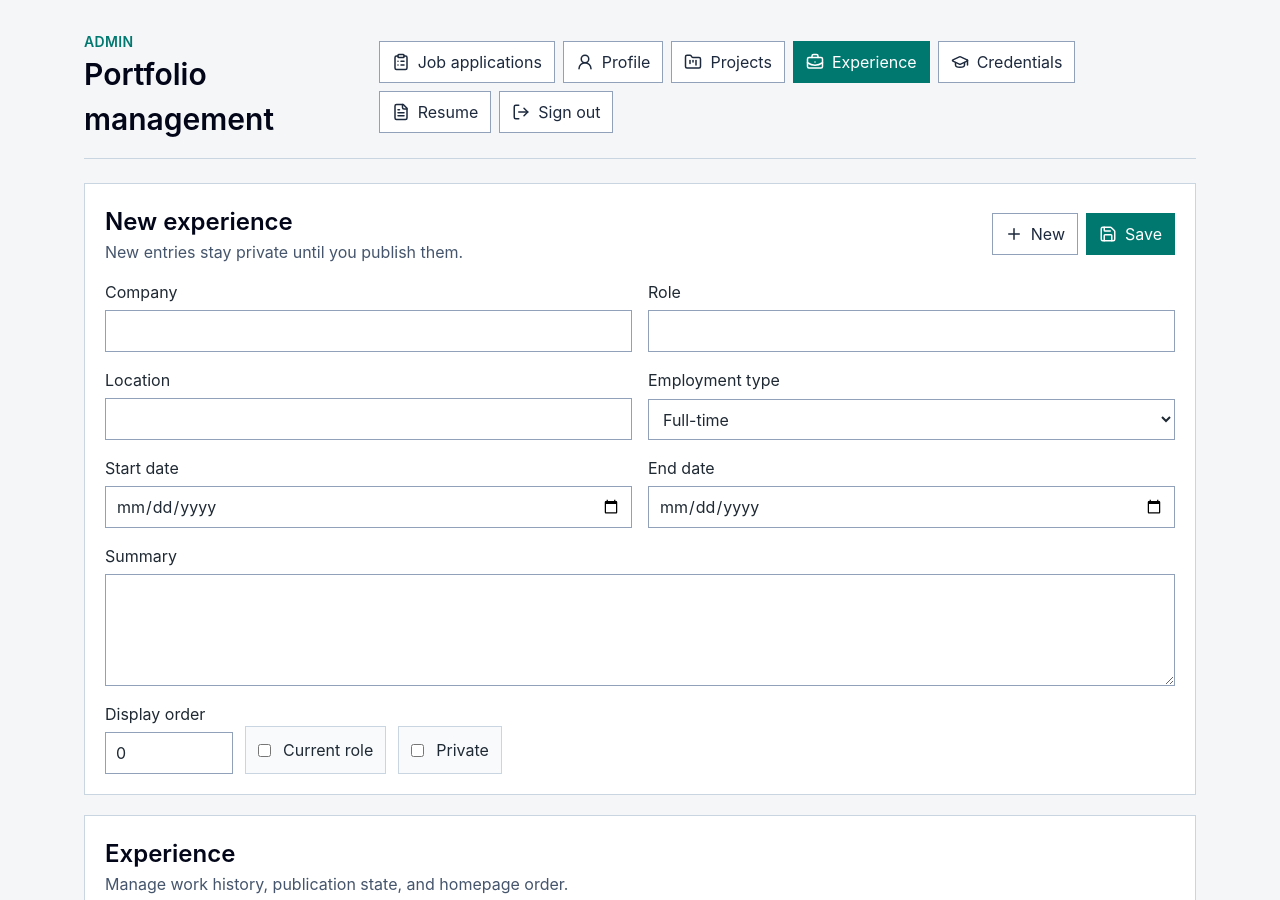
Test: experience admin › validates date rules, current-role exclusivity, and display order
Type "2026-01-01" into the date field labelled "End date" at (912, 507), box left=648, top=486, right=1175, bottom=528
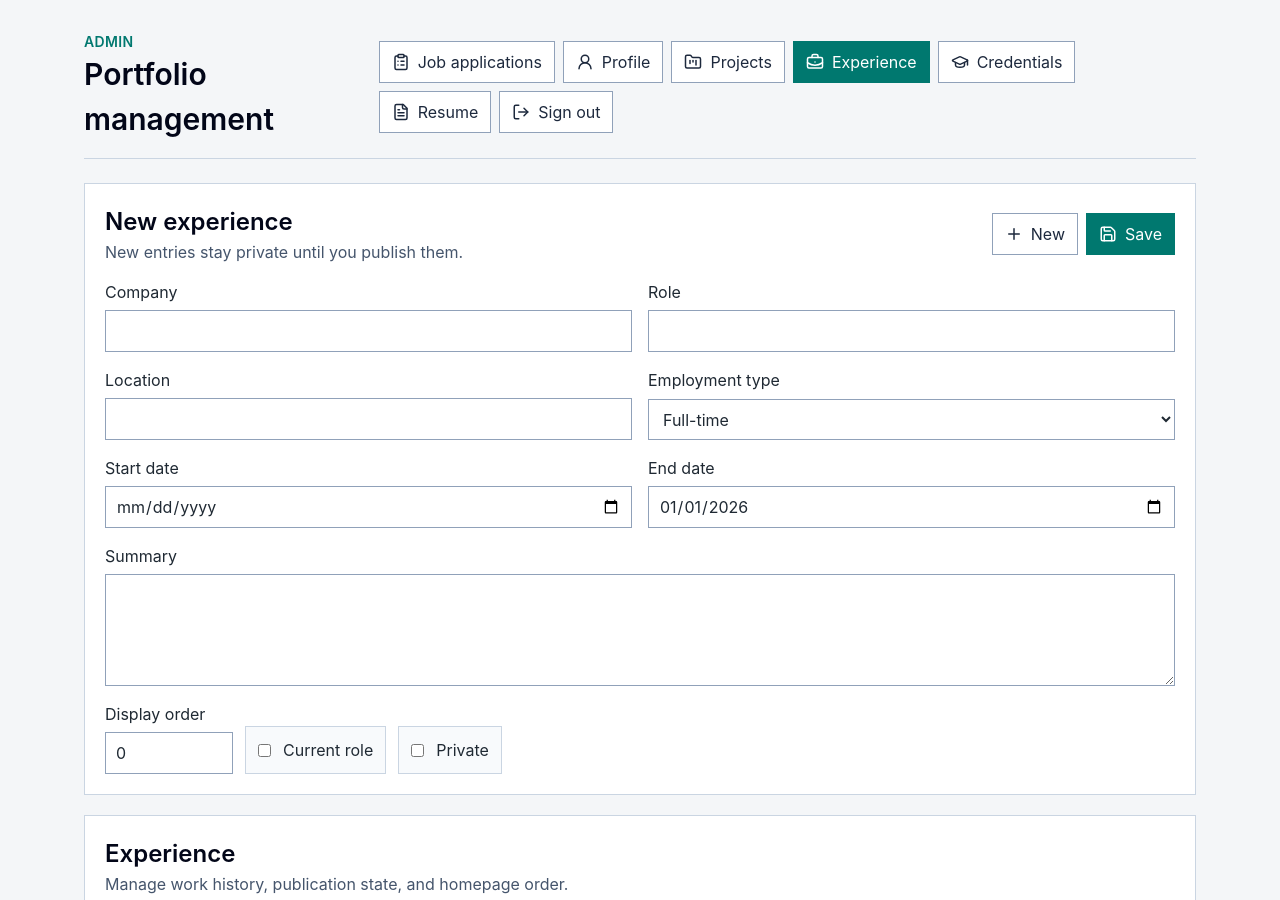
Click the checkbox labelled "Current role" at (264, 750), box left=258, top=744, right=271, bottom=756
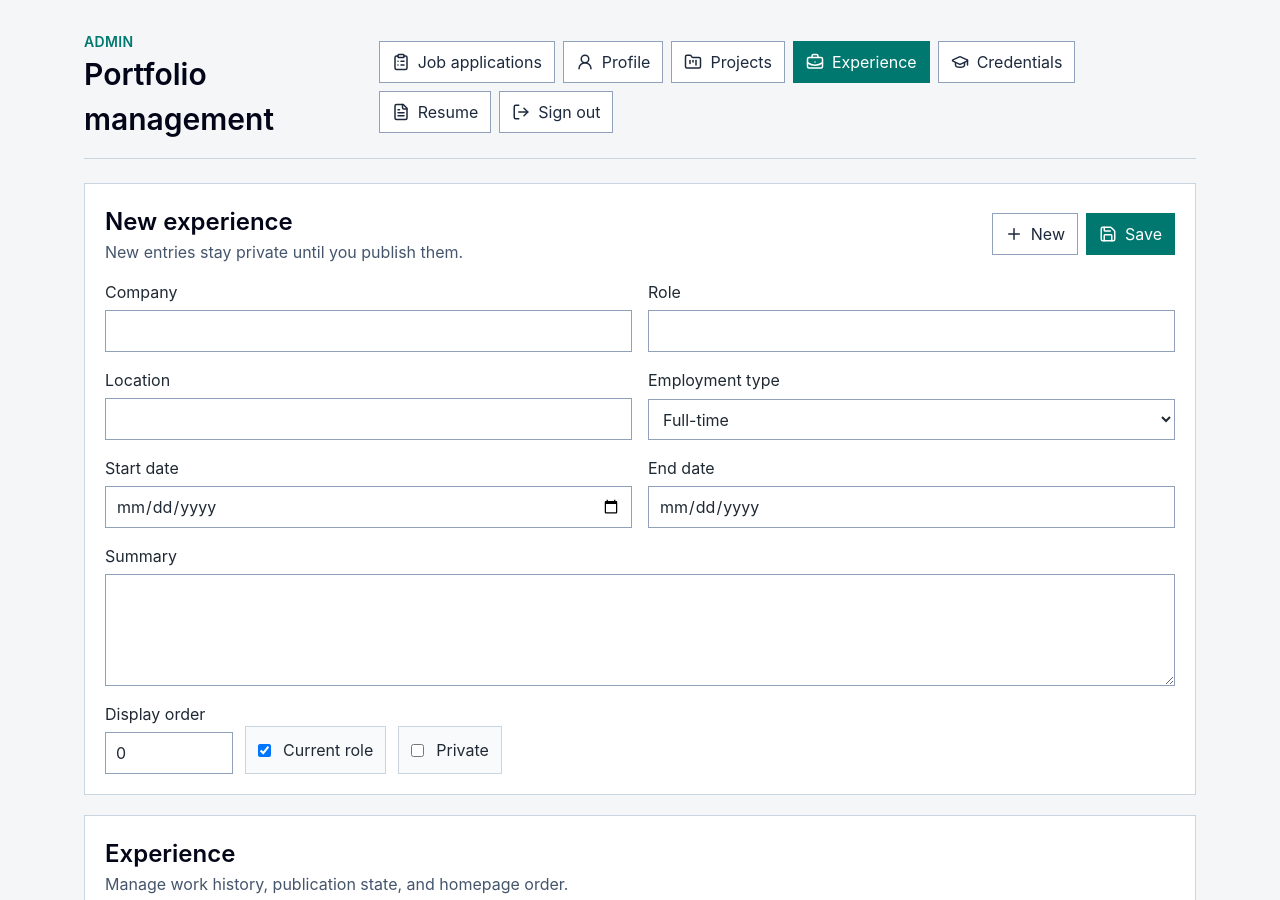
expect the date field labelled "End date" is disabled: met, box left=648, top=486, right=1175, bottom=528
expect the date field labelled "End date" is empty: met, box left=648, top=486, right=1175, bottom=528
